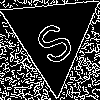S: (27, 11, 77, 69)
